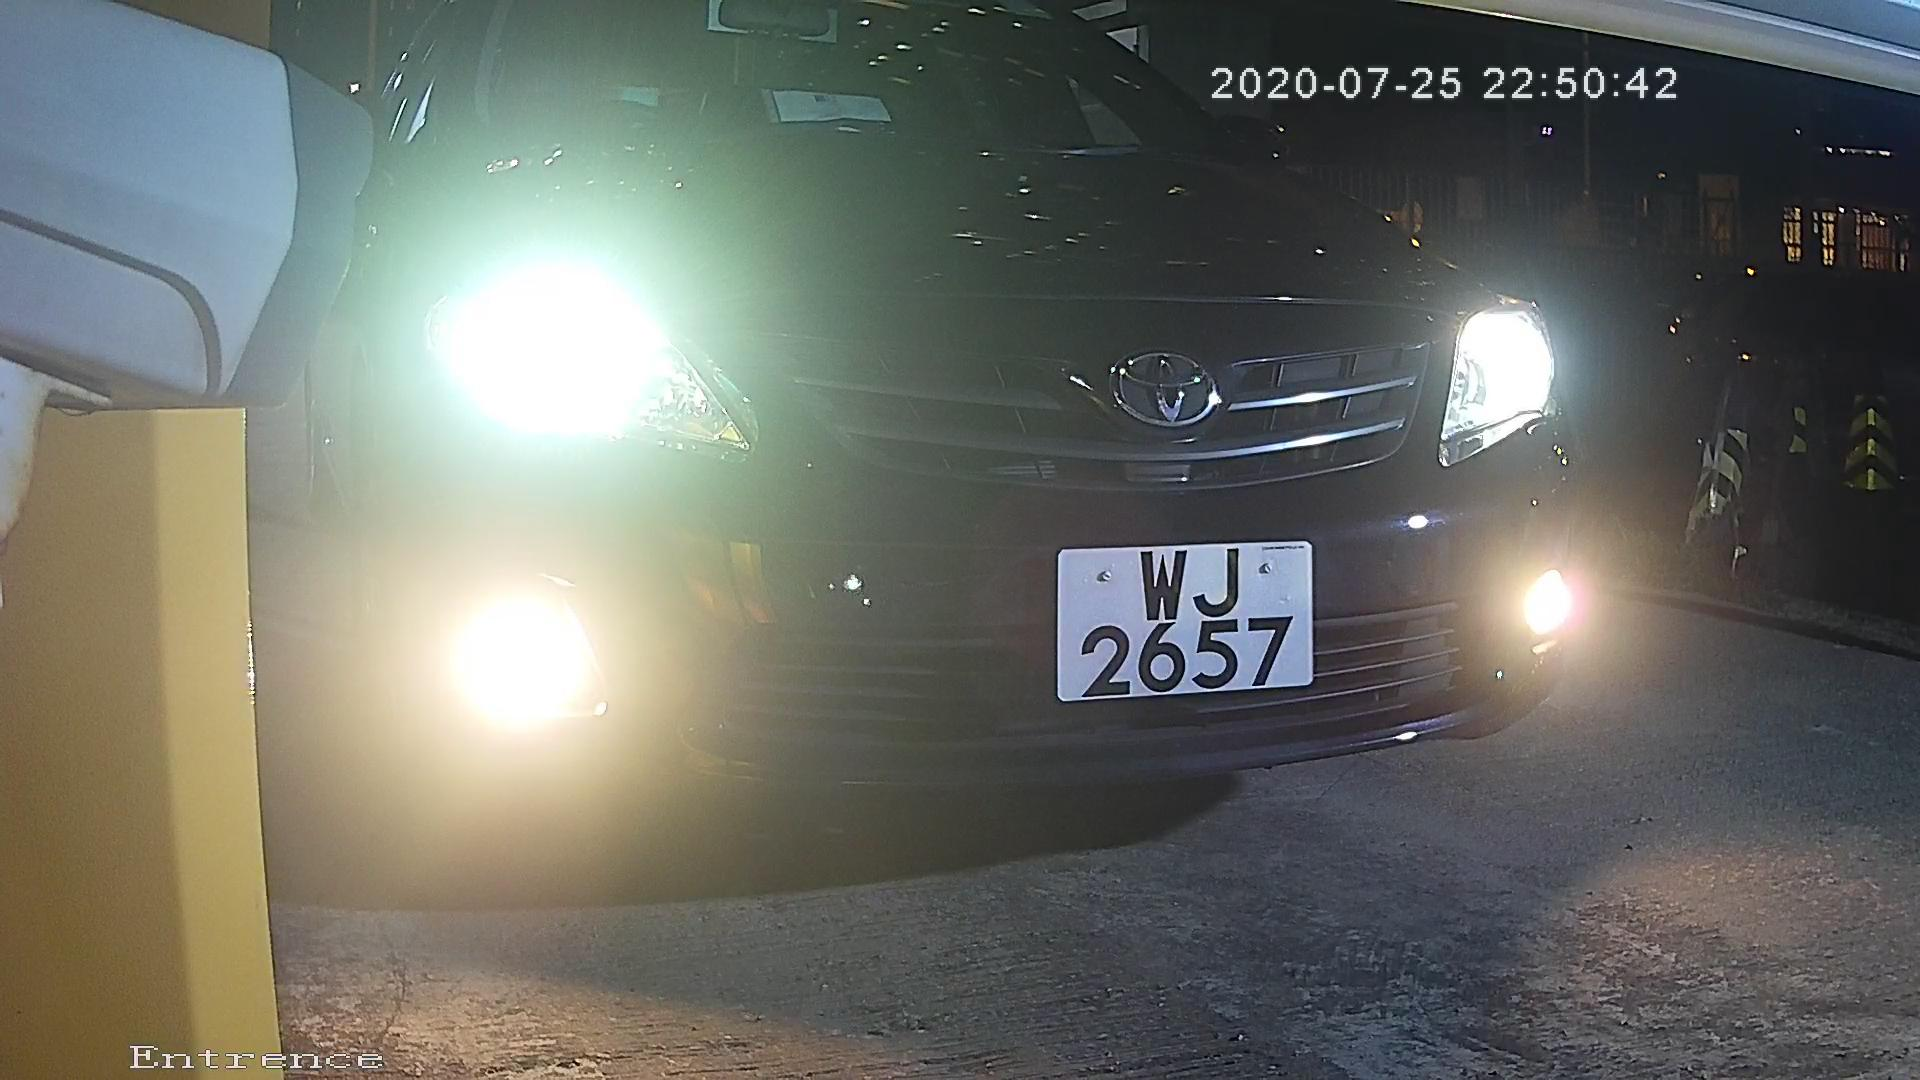License Plate: (1020, 521, 1338, 724)
